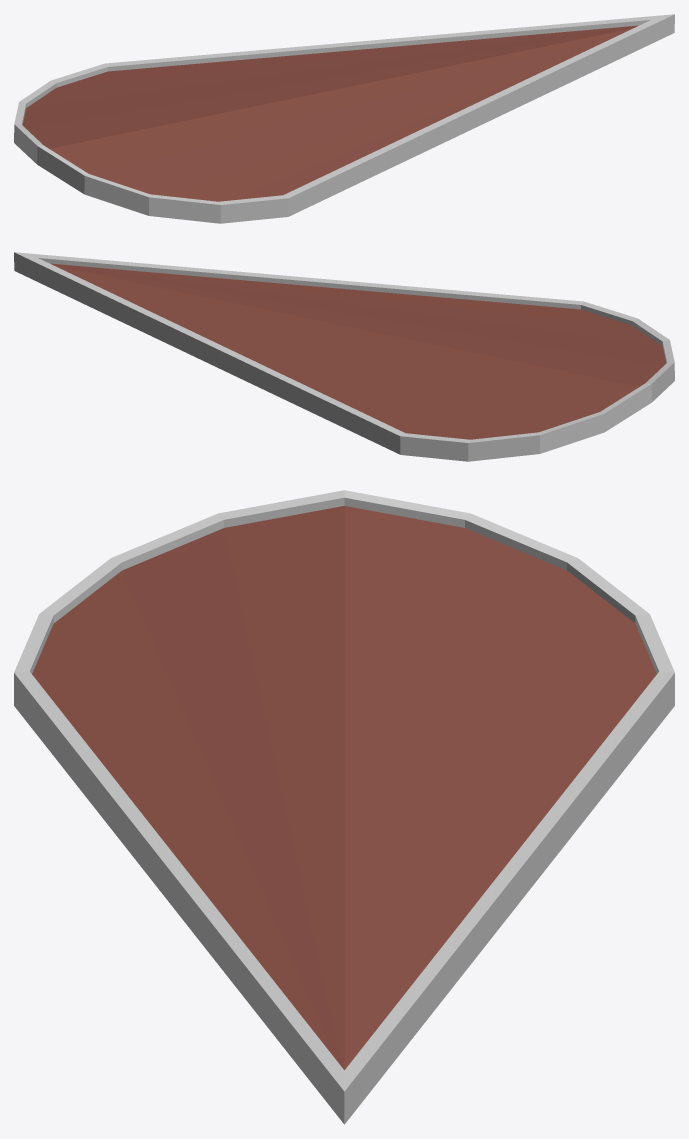
File: Shield_3_a_r.fbx
3 views of the same model, one above another, from view 1: azimuth 30°, elevation 25°; view 2: azimuth 150°, elevation 25°; view 3: azimuth 270°, elevation 25° (orthographic). The views are drawn at different scales.
Parts seen in each view (by area): view 1: Circle.029, Circle.030; view 2: Circle.029, Circle.030; view 3: Circle.029, Circle.030.
Part boxes in pixels (<box>): Circle.029: <box>22,25,638,201</box>; Circle.030: <box>14,14,674,223</box>; Circle.029: <box>50,263,666,439</box>; Circle.030: <box>14,252,674,461</box>; Circle.029: <box>32,506,656,1070</box>; Circle.030: <box>14,490,674,1124</box>.
Bounding box in the file's own units: 147 × 16.22 × 73.5.
